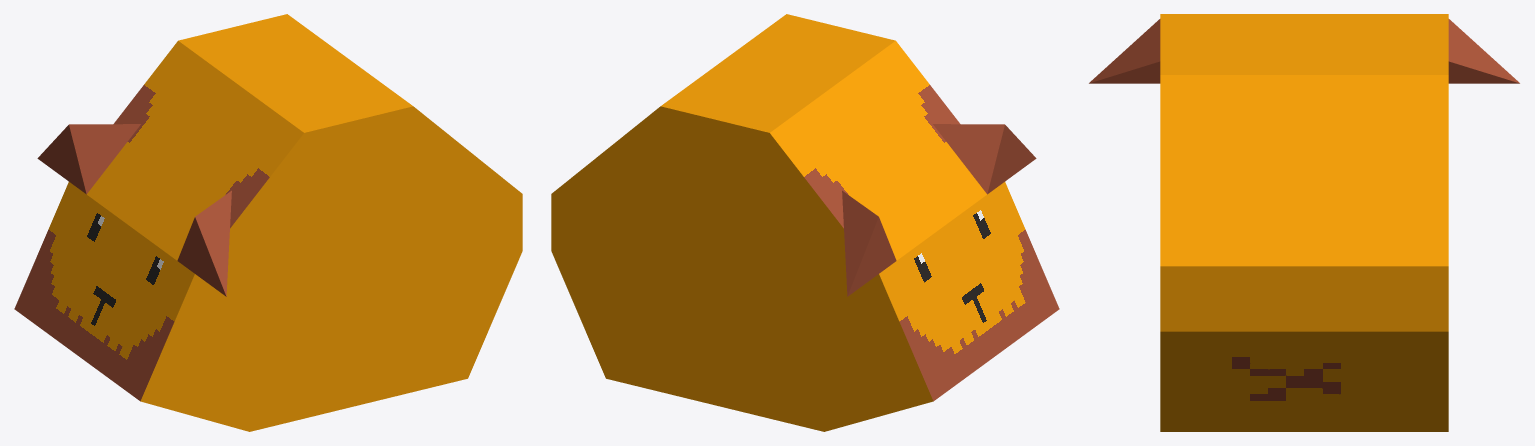
Rendered from ginnie8o.gltf.
3 views of the same model, side by side, from view 1: azimuth 30°, elevation 25°; view 2: azimuth 150°, elevation 25°; view 3: azimuth 270°, elevation 25° (orthographic). The views are drawn at different scales.
Size of the model in its own units: 1.75 by 1.25 by 1.5.
Materials: 1 (1 with a texture image).
